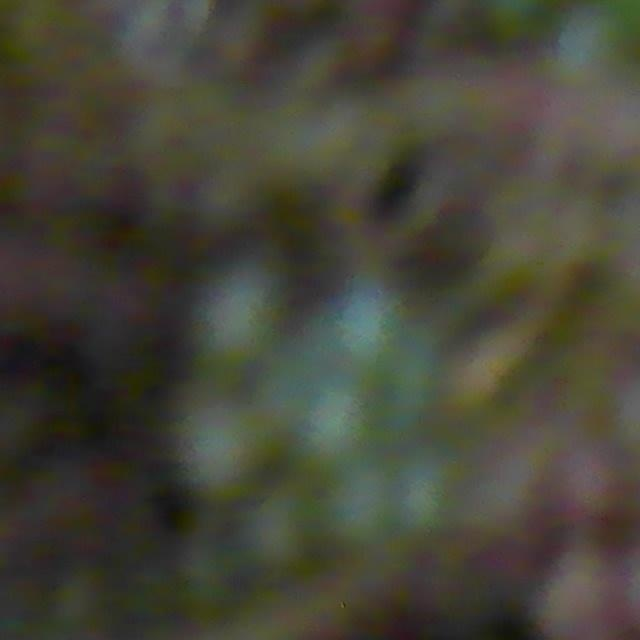SeaGrape: (170, 397, 271, 494), (191, 257, 282, 364), (533, 453, 634, 541), (322, 277, 408, 369), (293, 377, 374, 466), (550, 1, 632, 88), (386, 450, 465, 535), (546, 561, 629, 640), (321, 465, 400, 548), (235, 490, 314, 572), (69, 65, 160, 132), (0, 238, 46, 333)
